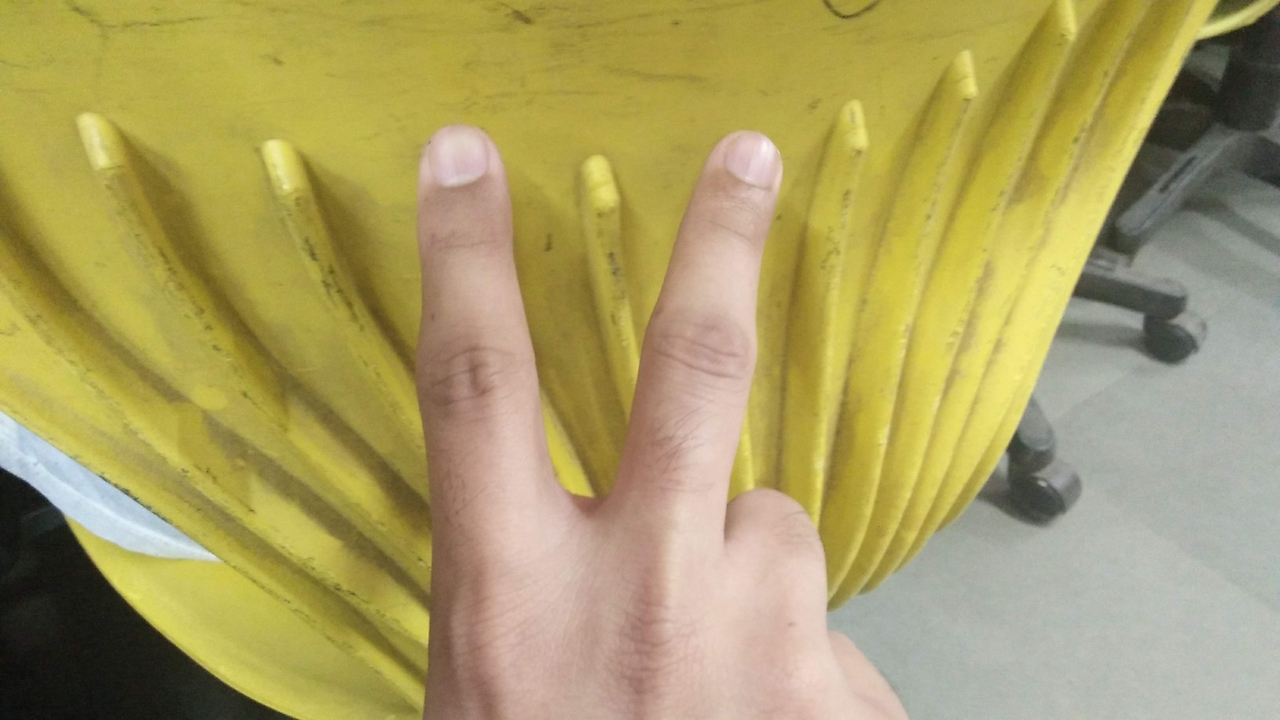fingertip: (398, 130, 508, 194), (704, 128, 790, 196)
